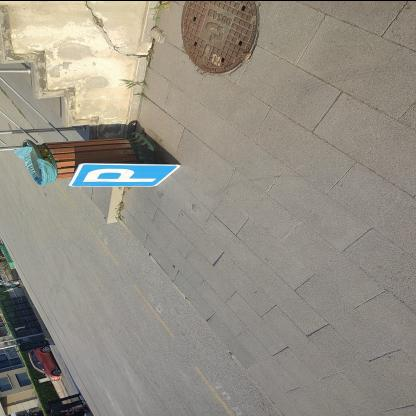Parking-Sign: (69, 163, 184, 187)
